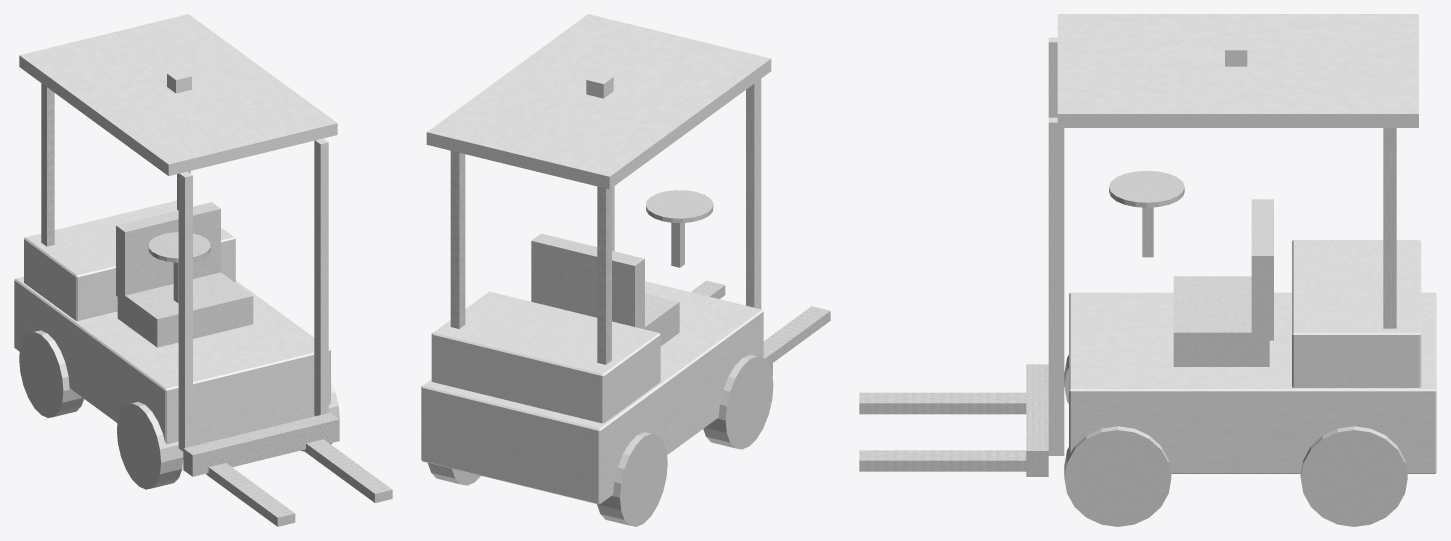
File: industrial_forklift.obj
3 views of the same model, side by side, from view 1: azimuth 30°, elevation 25°; view 2: azimuth 150°, elevation 25°; view 3: azimuth 270°, elevation 25° (orthographic). The views are drawn at different scales.
Visible parts, largest first — view 1: Body, Black, Fork, Mast, Wheel, Trim, Lamp; view 2: Body, Wheel, Black, Trim, Mast, Fork, Lamp; view 3: Body, Wheel, Black, Fork, Mast, Trim.
Boxes of the visible parts, <box> form: Body: <box>14,14,337,453</box>; Black: <box>116,202,253,347</box>; Fork: <box>183,412,392,526</box>; Mast: <box>178,138,328,451</box>; Wheel: <box>19,330,339,489</box>; Trim: <box>41,83,210,303</box>; Lamp: <box>167,69,191,93</box>; Body: <box>421,14,771,504</box>; Wheel: <box>428,354,773,526</box>; Black: <box>531,233,679,345</box>; Trim: <box>450,151,713,364</box>; Mast: <box>612,79,761,309</box>; Fork: <box>691,280,830,375</box>; Lamp: <box>586,72,613,98</box>; Body: <box>1057,14,1436,473</box>; Wheel: <box>1064,355,1407,526</box>; Black: <box>1173,199,1273,366</box>; Fork: <box>859,364,1048,476</box>; Mast: <box>1048,37,1064,455</box>; Trim: <box>1109,128,1396,328</box>.
Size of the model in its own units: 1.12 by 2.12 by 2.59.
